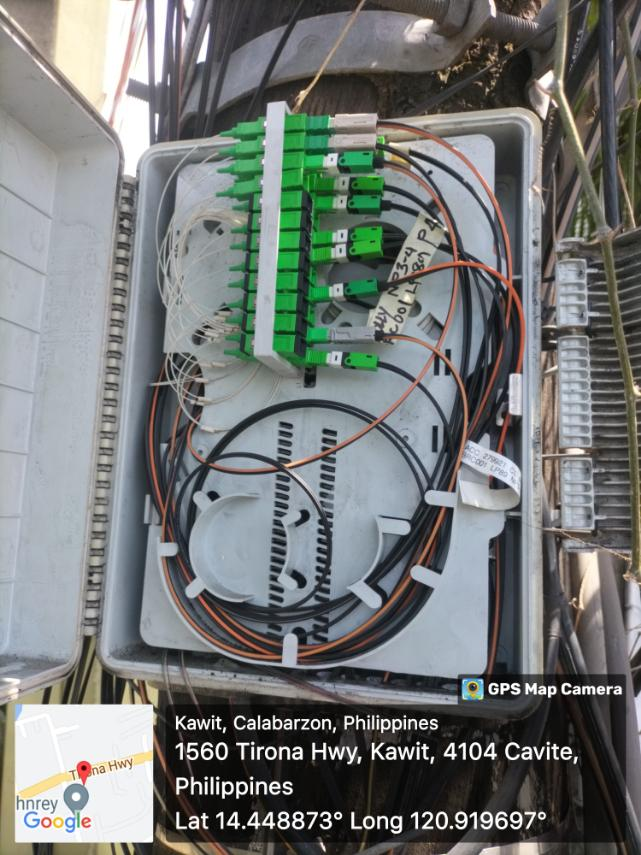no dust cap: (308, 304, 316, 328), (311, 265, 318, 289), (302, 169, 309, 193), (314, 209, 321, 232)
occupied: (313, 276, 396, 303), (310, 238, 393, 265), (312, 224, 395, 247), (305, 349, 388, 372), (302, 151, 385, 172), (303, 131, 386, 152), (304, 112, 387, 133), (308, 326, 390, 347), (314, 193, 396, 214), (314, 173, 396, 194), (312, 149, 394, 170), (314, 133, 396, 154)
vacant: (296, 334, 307, 358), (300, 272, 311, 296), (300, 251, 311, 275), (302, 211, 313, 235), (302, 190, 313, 214), (297, 313, 307, 337), (302, 231, 312, 255), (298, 293, 308, 316)
